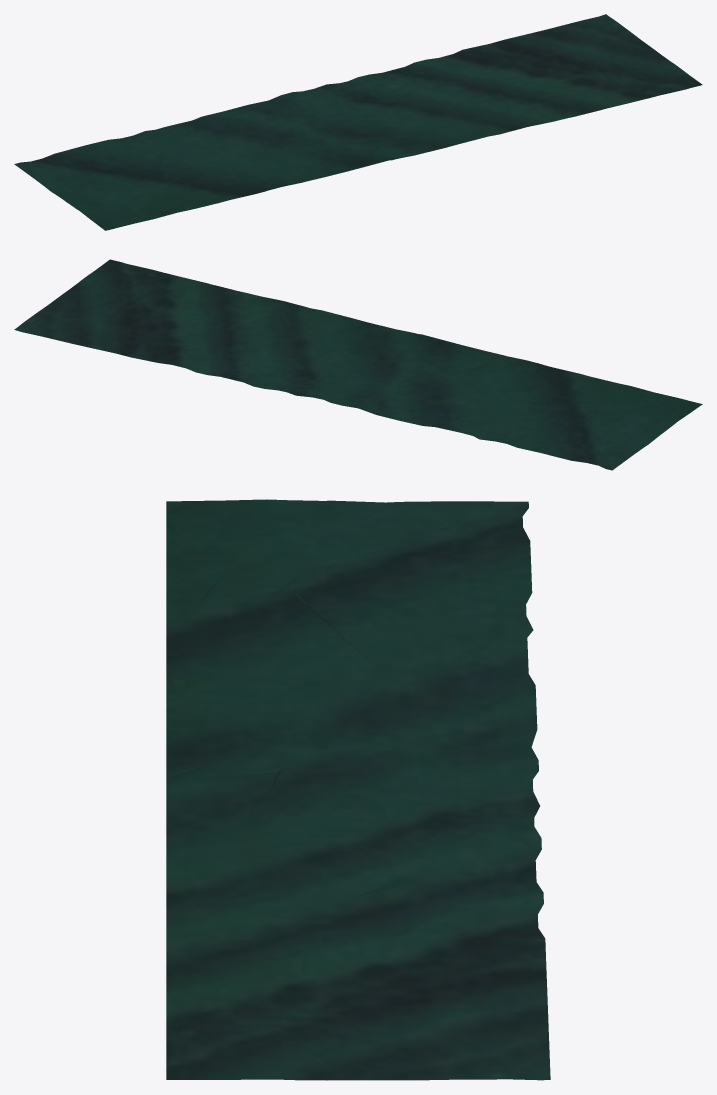
The picture shows the model from 3 angles, top to bottom: view 1: azimuth 30°, elevation 25°; view 2: azimuth 150°, elevation 25°; view 3: azimuth 270°, elevation 25°; orthographic projection. The views are drawn at different scales.
Bounding box in the file's own units: 209 × 0.8791 × 58.63.
1 material, 1 textured.
